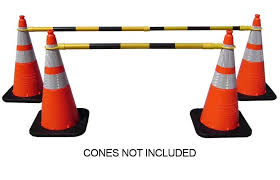cones: (188, 31, 252, 139), (26, 27, 89, 136), (1, 14, 42, 102), (238, 15, 276, 100)
